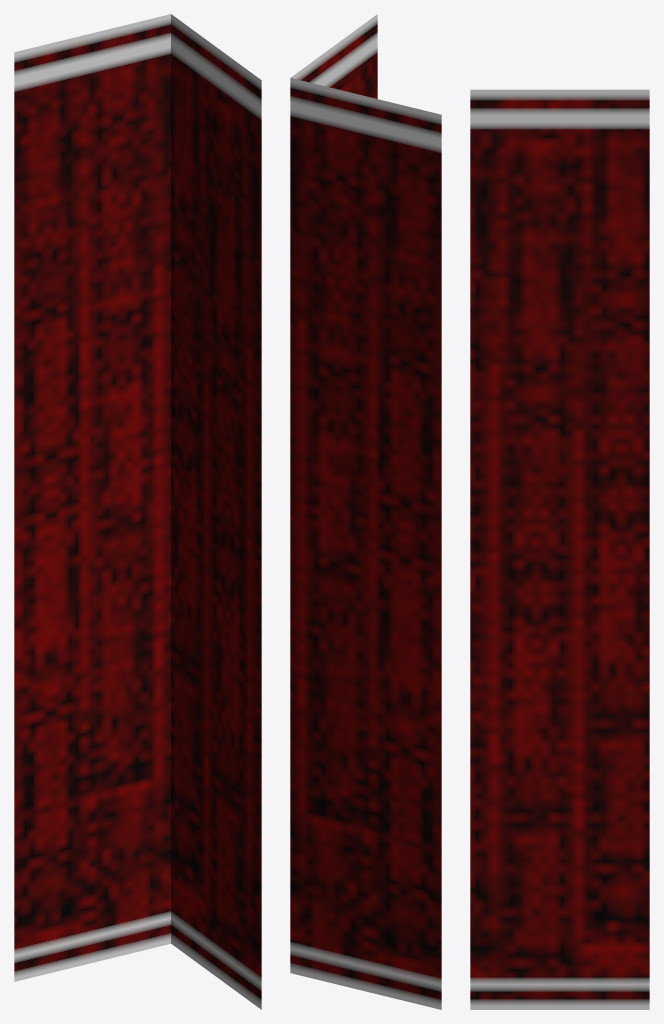
Rendered from W_A1_Eckverschluß [Dunkelrot]_2095.glb.
The picture shows the model from 3 angles, left to right: view 1: azimuth 30°, elevation 25°; view 2: azimuth 150°, elevation 25°; view 3: azimuth 270°, elevation 25°; orthographic projection. The views are drawn at different scales.
Visible parts, largest first — view 1: pPlaneShape7; view 2: pPlaneShape7; view 3: pPlaneShape7.
Boxes of the visible parts, x1,y1,x2,y2 form: pPlaneShape7: (14, 14, 261, 1009); pPlaneShape7: (290, 14, 441, 1009); pPlaneShape7: (470, 89, 649, 1009).
Size of the model in its own units: 0.0615 by 0.3486 by 0.0615.
1 material, 1 textured.
